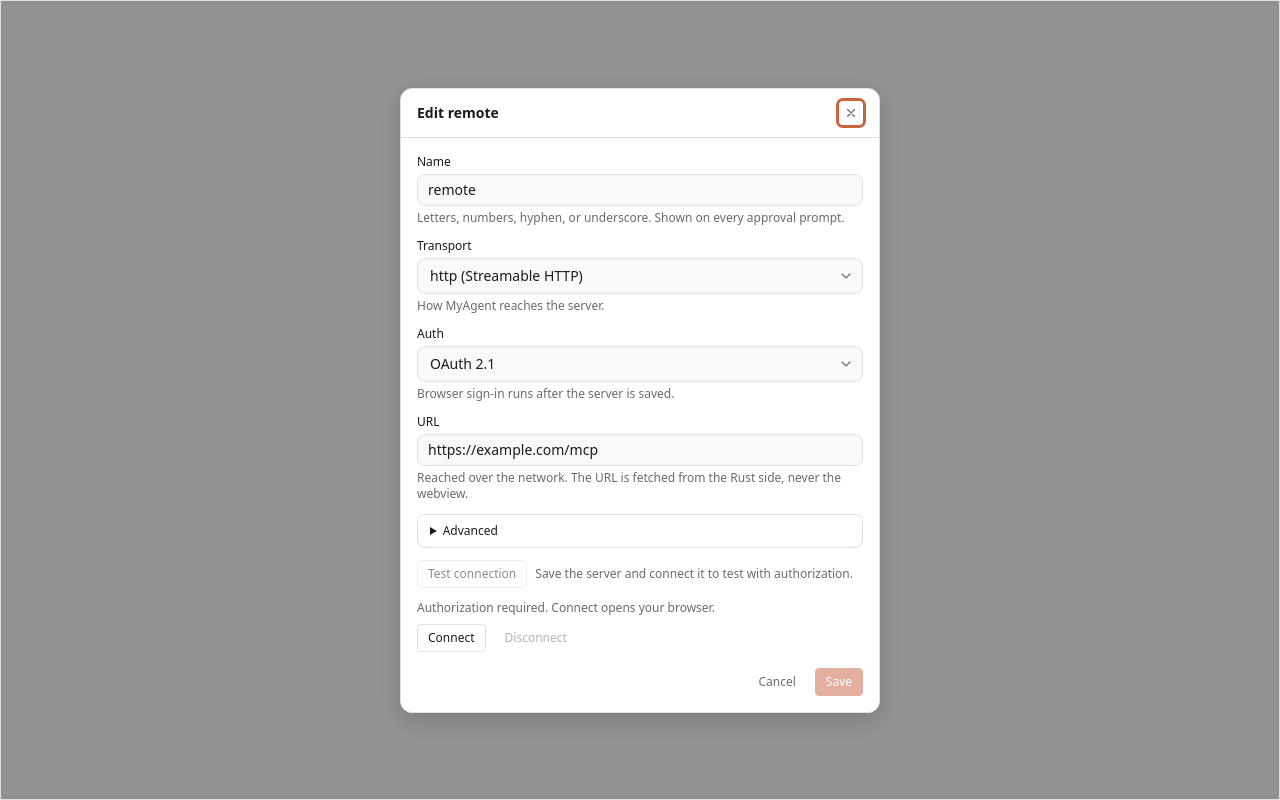
Test: McpServerDialog oauth › connects through the browser and refreshes the parent list
This screenshot has width=1280, height=800.
Click the button "Connect".
click(451, 638)  # box [417, 624, 486, 652]
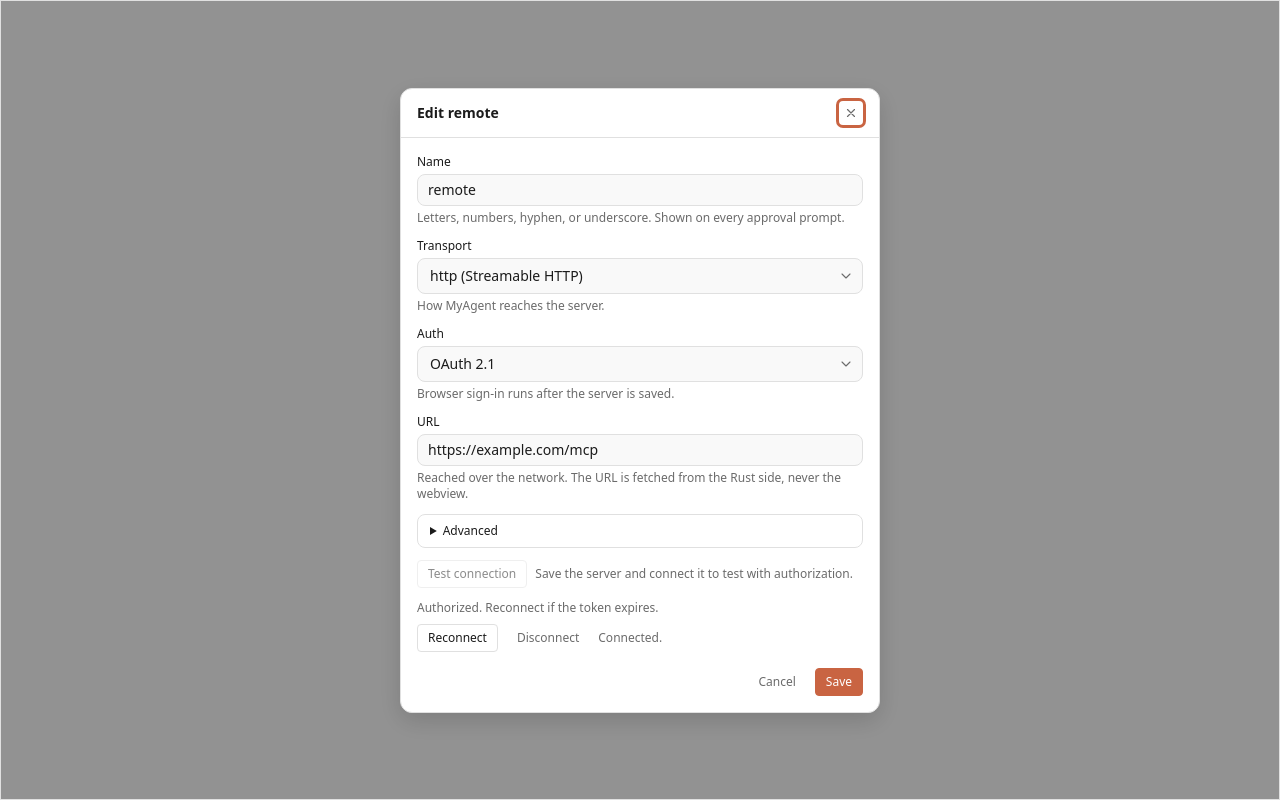
Check: the text "Connected." is shown, box [598, 630, 662, 646]
